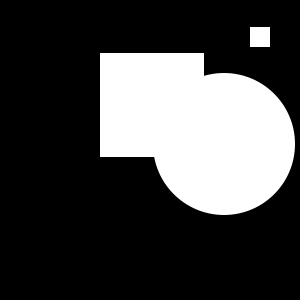circle: (100, 53, 204, 157), (228, 137, 263, 172), (250, 27, 270, 47)
rectangle: (153, 73, 295, 215)
